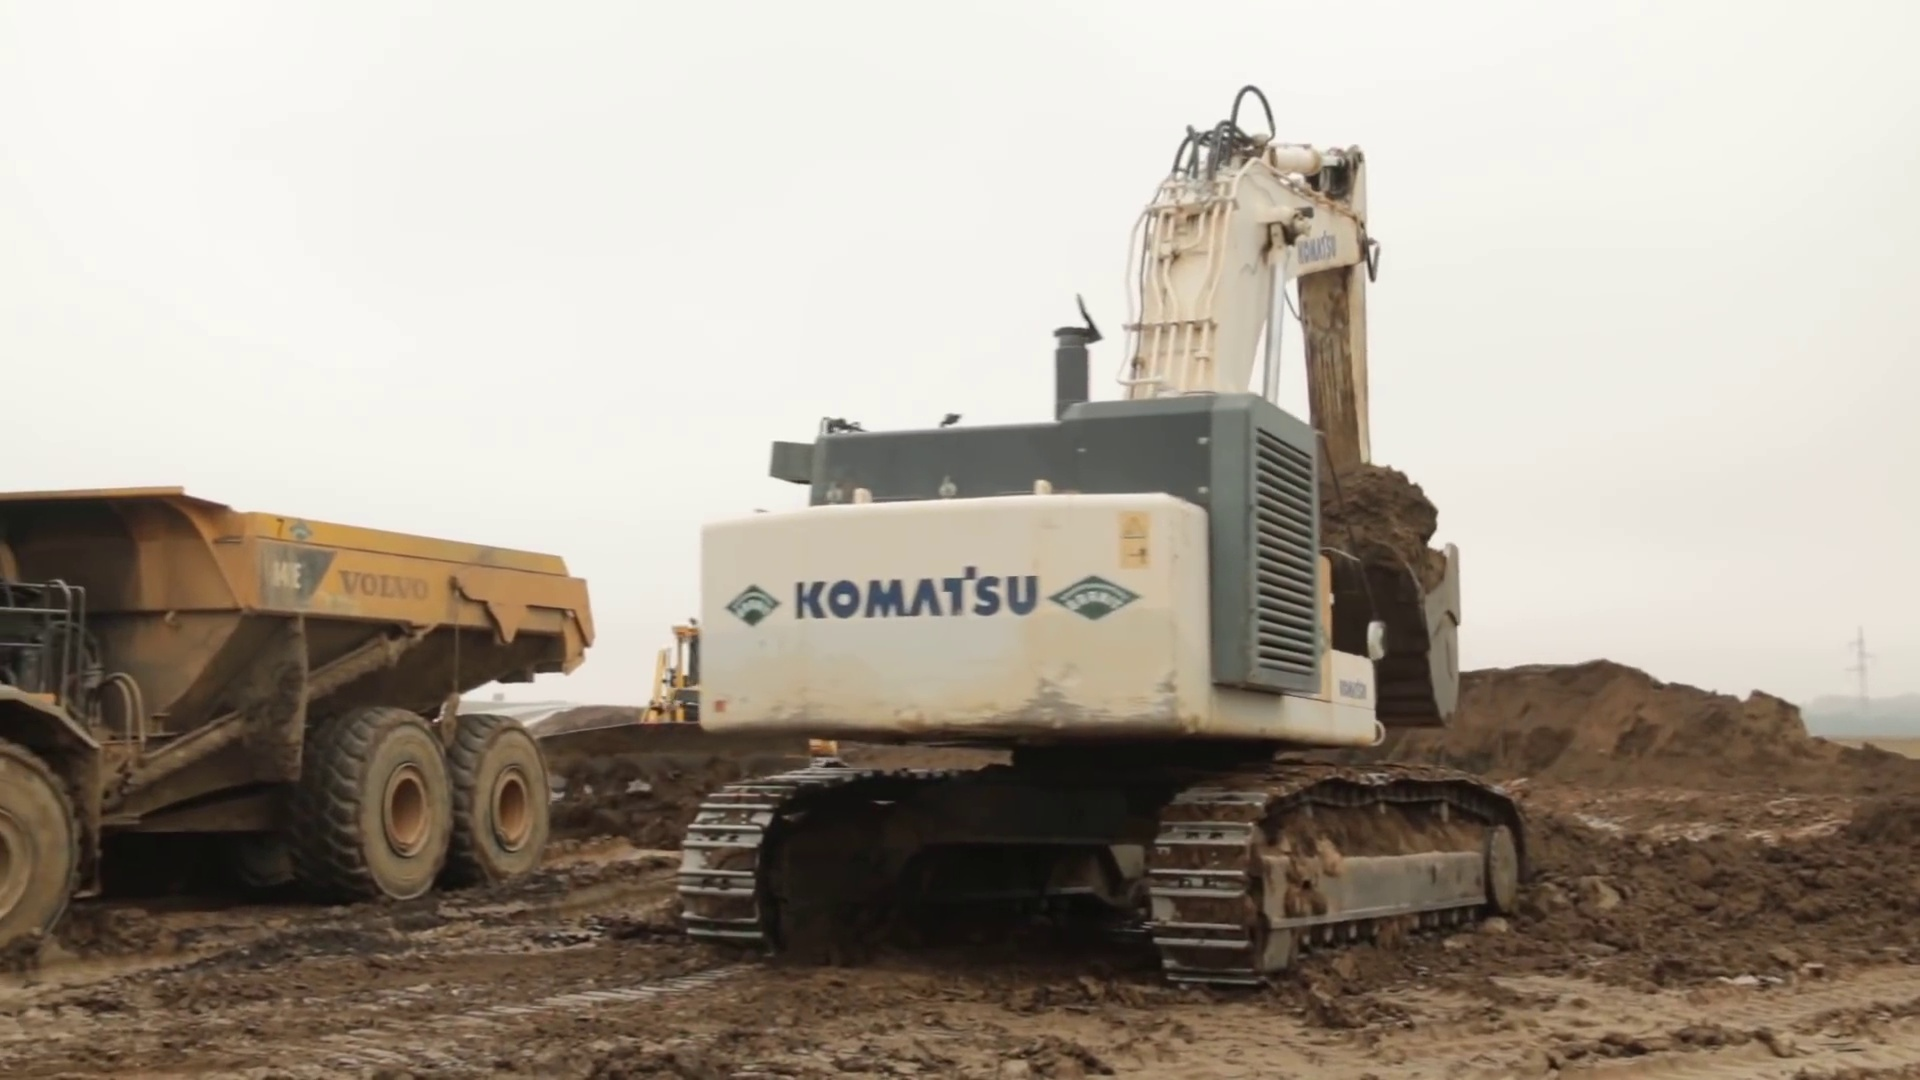dumper: (3, 483, 600, 927)
excavator: (671, 83, 1538, 992)
